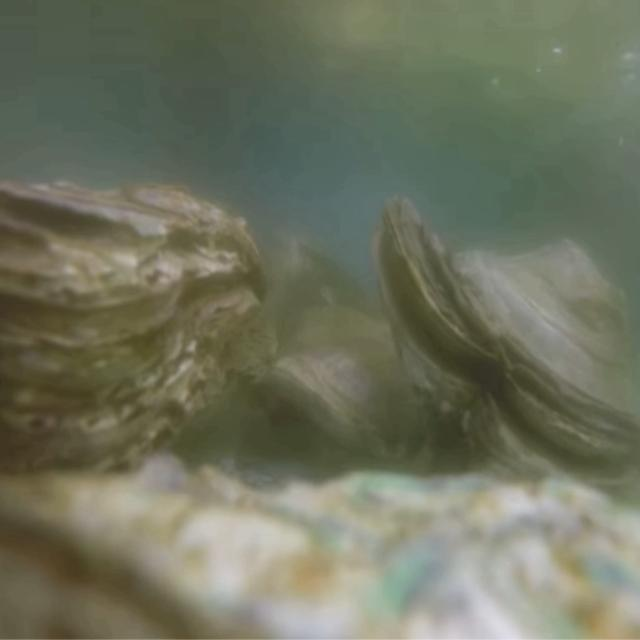Oyster-Closed: (0, 173, 269, 484)
Oyster-Indeterminate: (0, 450, 640, 640), (269, 305, 438, 474)
Oyster-Open: (369, 195, 640, 506)
